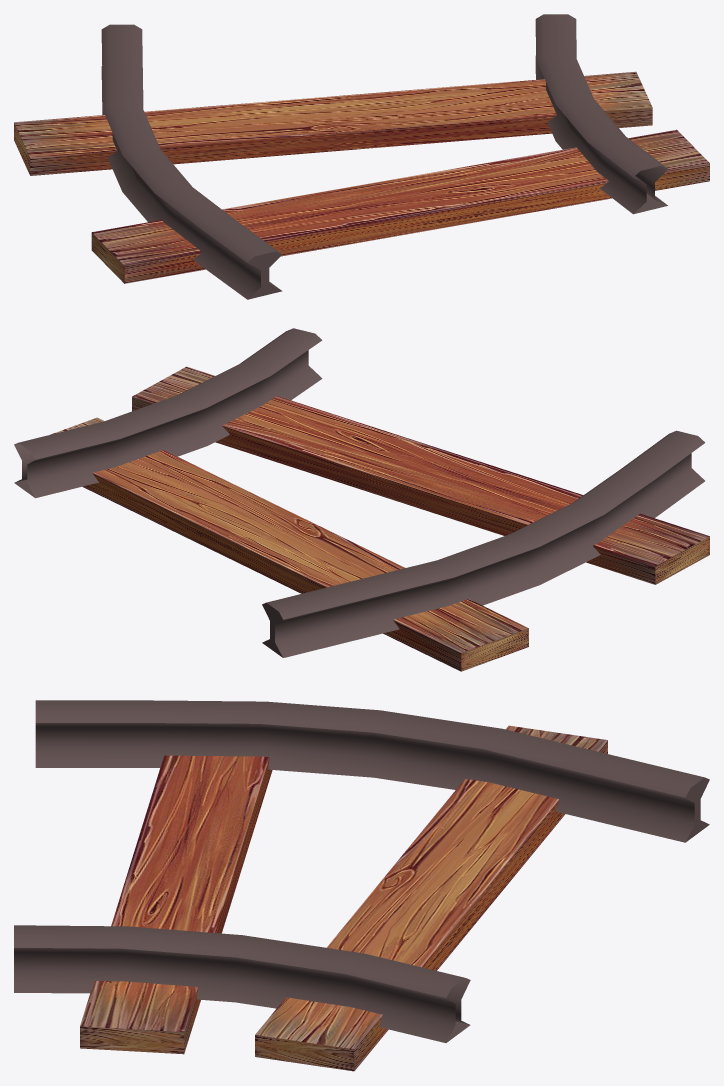
The model's file is RailroadCurved.fbx.
3 renders of one model, top to bottom at view 1: azimuth 30°, elevation 25°; view 2: azimuth 150°, elevation 25°; view 3: azimuth 270°, elevation 25°, orthographic. The views are drawn at different scales.
Parts seen in each view (by area): view 1: polySurface33; view 2: polySurface33; view 3: polySurface33.
Boxes of the visible parts, x1,y1,x2,y2 form: polySurface33: [14, 14, 709, 299]; polySurface33: [14, 328, 709, 671]; polySurface33: [14, 700, 709, 1071].
Bounding box in the file's own units: 16.57 × 1.46 × 14.01.
Materials: 2 (1 with a texture image).
